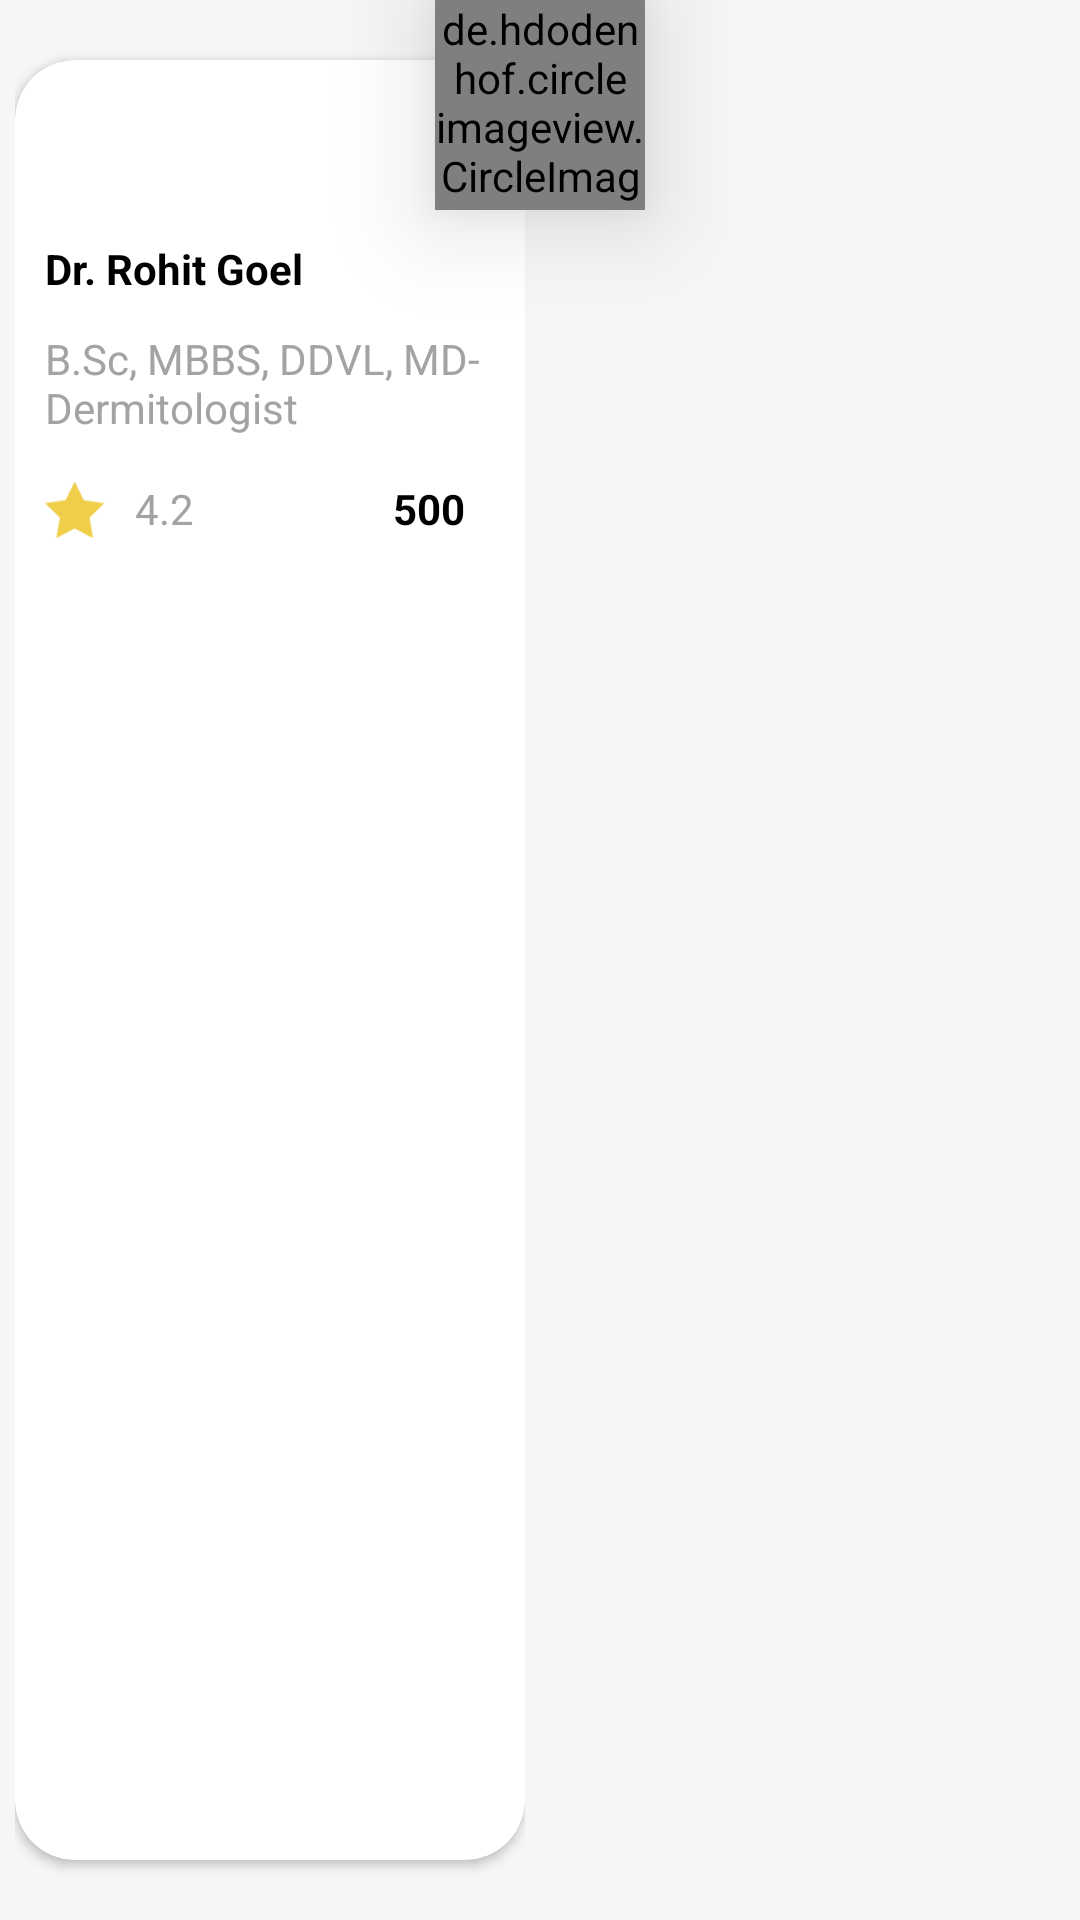

Named icons in this screenshot (1080×1920) and their centers, point (x, y):
rating star: point (74, 510)
